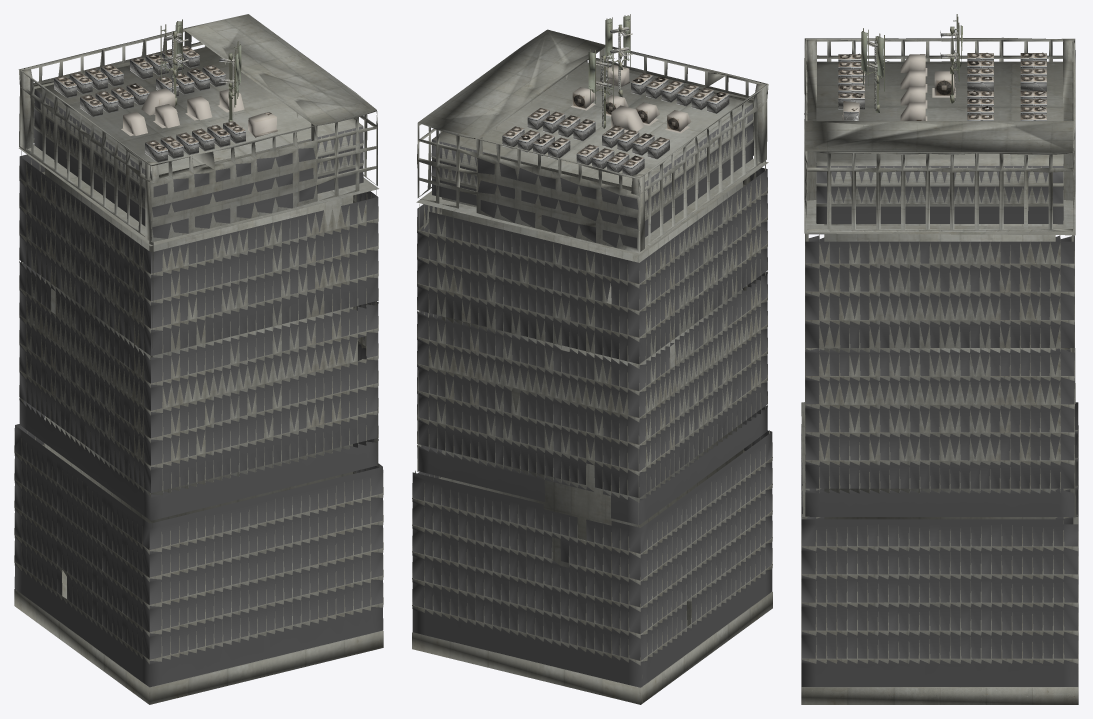
Rendered from Building 3.glb.
The picture shows the model from 3 angles, left to right: view 1: azimuth 30°, elevation 25°; view 2: azimuth 150°, elevation 25°; view 3: azimuth 270°, elevation 25°; orthographic projection. The views are drawn at different scales.
Visible parts, largest first — view 1: HK Building 3; view 2: HK Building 3; view 3: HK Building 3.
Part boxes in pixels (x1,y1,x2,y2): HK Building 3: [14, 14, 383, 704]; HK Building 3: [412, 14, 772, 704]; HK Building 3: [801, 14, 1078, 704].
Size of the model in its own units: 24.27 by 59.63 by 24.28.
Materials: 7 (6 with a texture image).
